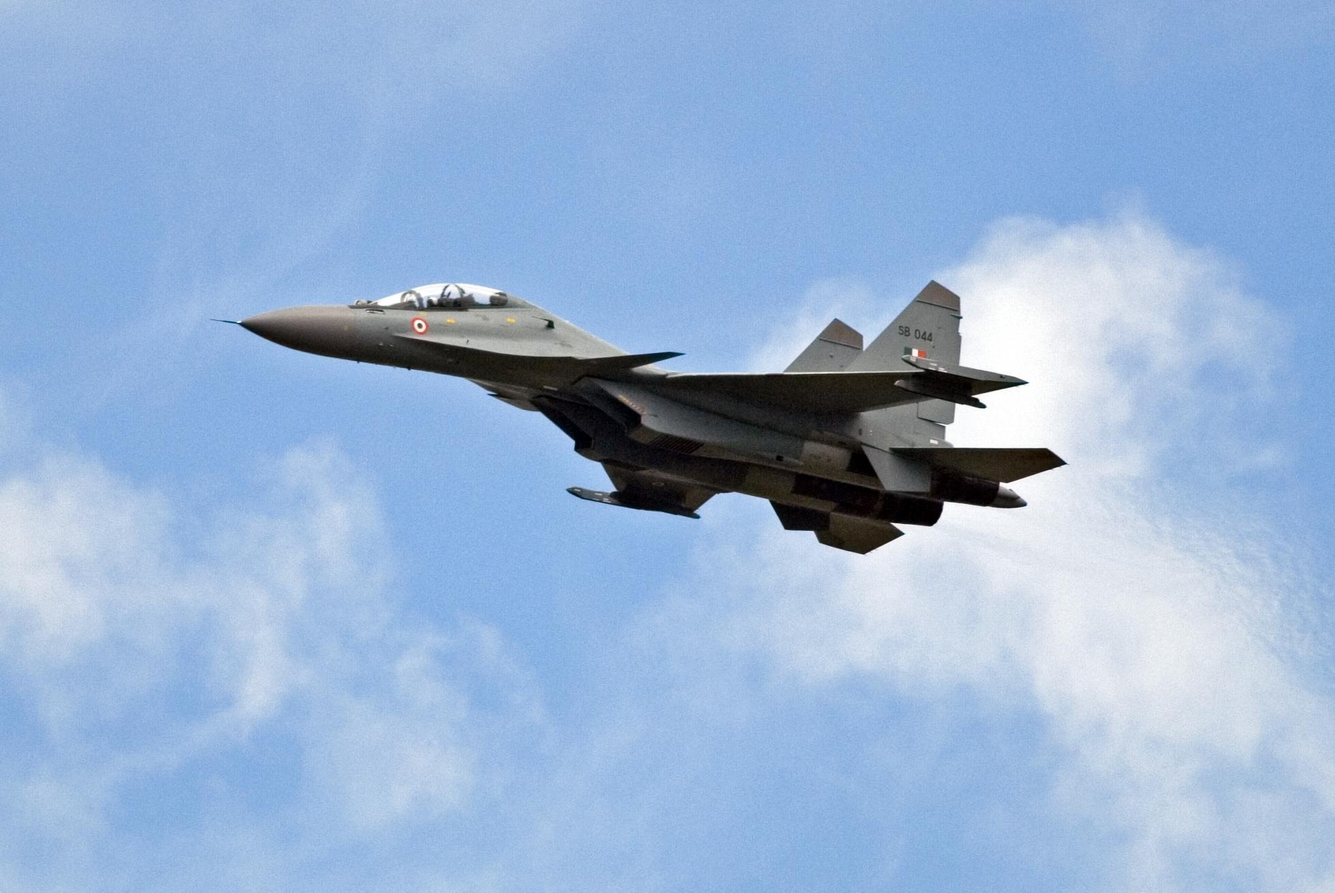aircraft: (229, 274, 1066, 550)
